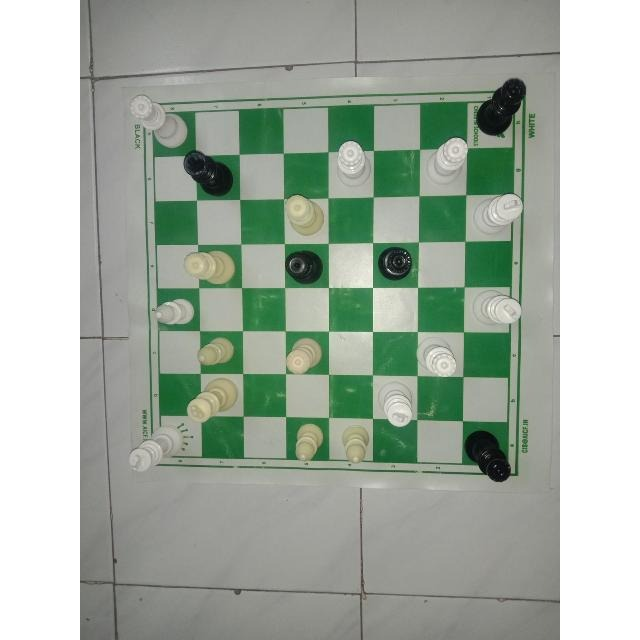black-king: (182, 150, 238, 197)
black-queen: (476, 76, 528, 140), (462, 429, 512, 483), (373, 245, 413, 283), (283, 249, 323, 285)
white-bishop: (152, 296, 196, 328), (294, 421, 326, 464), (197, 335, 237, 367), (340, 424, 370, 464)
white-king: (124, 422, 182, 474), (185, 376, 239, 424), (467, 287, 524, 327), (472, 192, 522, 234), (375, 381, 415, 427)
white-queen: (128, 93, 190, 151), (421, 135, 469, 189), (179, 246, 240, 287), (413, 331, 460, 381), (333, 137, 374, 188), (284, 195, 328, 239), (285, 333, 327, 375)
